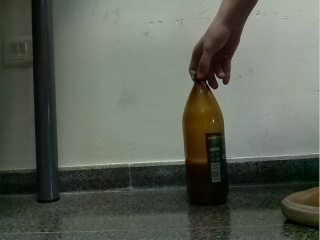pote cristal: (182, 72, 227, 204)
